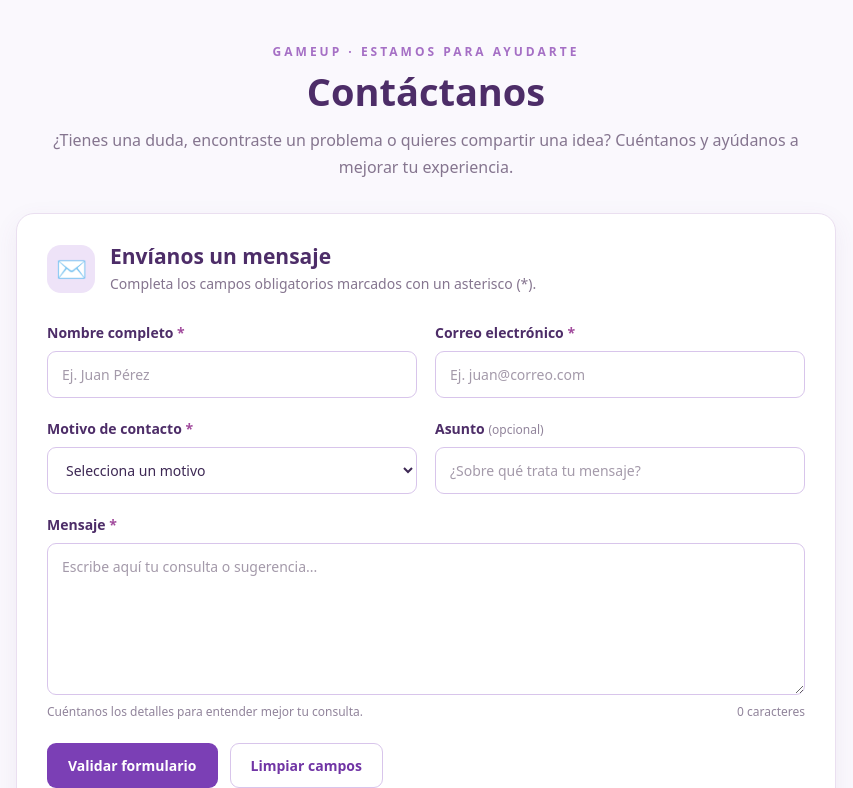
Componente Contacto › limpia los campos y la confirmación al presionar Limpiar campos
Step 1. Type "Ana Pérez" into the field labelled "Nombre completo *" → (232, 375), box [47,351,417,398]
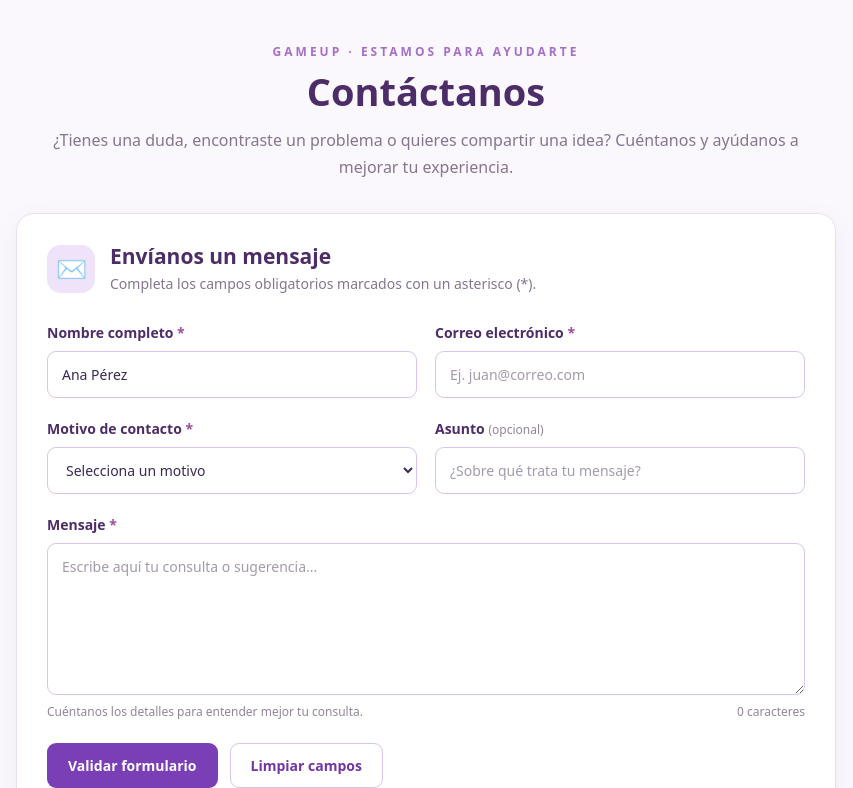
Step 2. Type "ana@example.com" into the field labelled "Correo electrónico *" → (620, 375), box [435,351,805,398]
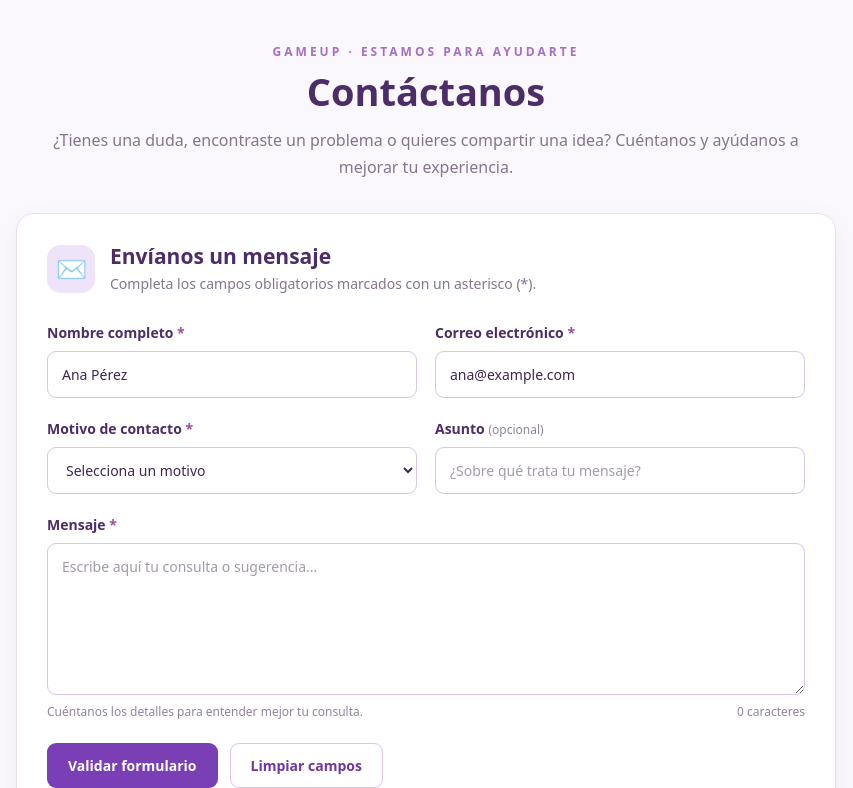
Step 3. Select "Consulta general" in the dropdown labelled "Motivo de contacto *" → (232, 471), box [47,447,417,494]
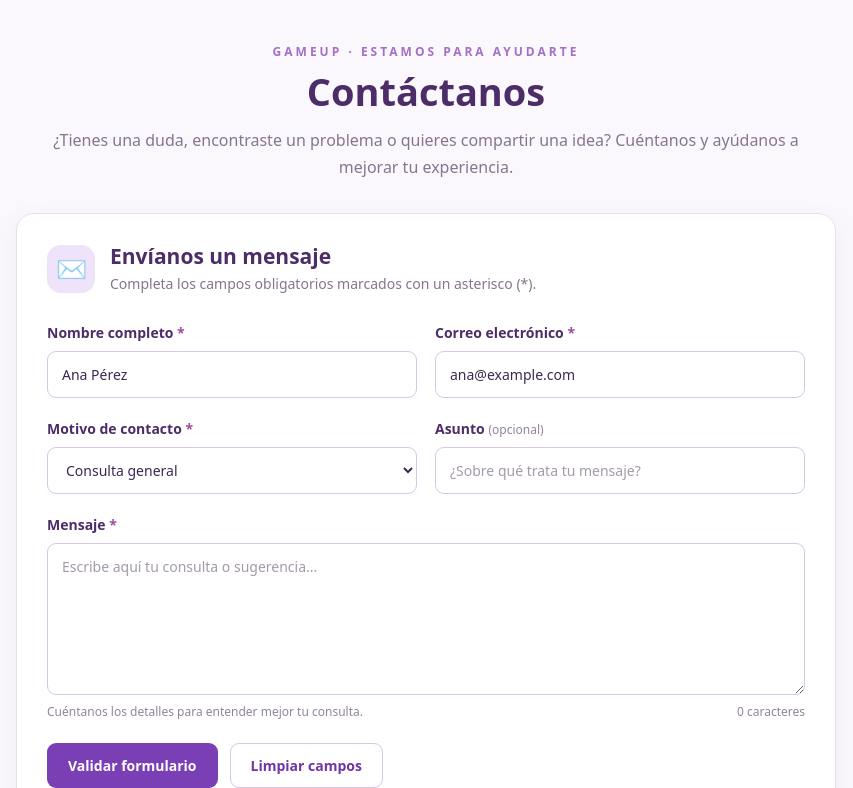
Step 4. Type "Necesito ayuda con mi biblioteca de videojuegos." into the text box labelled "Mensaje *" → (426, 619), box [47,543,805,695]
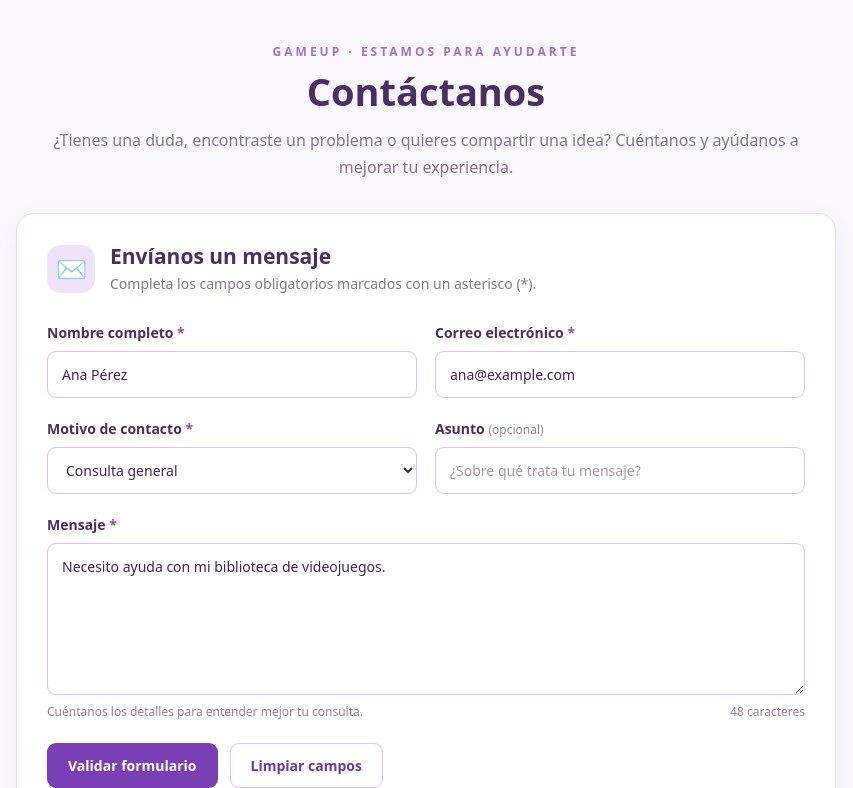
Step 5. Click the button "Validar formulario" → (132, 766), box [47,743,218,787]
(page scrolled)
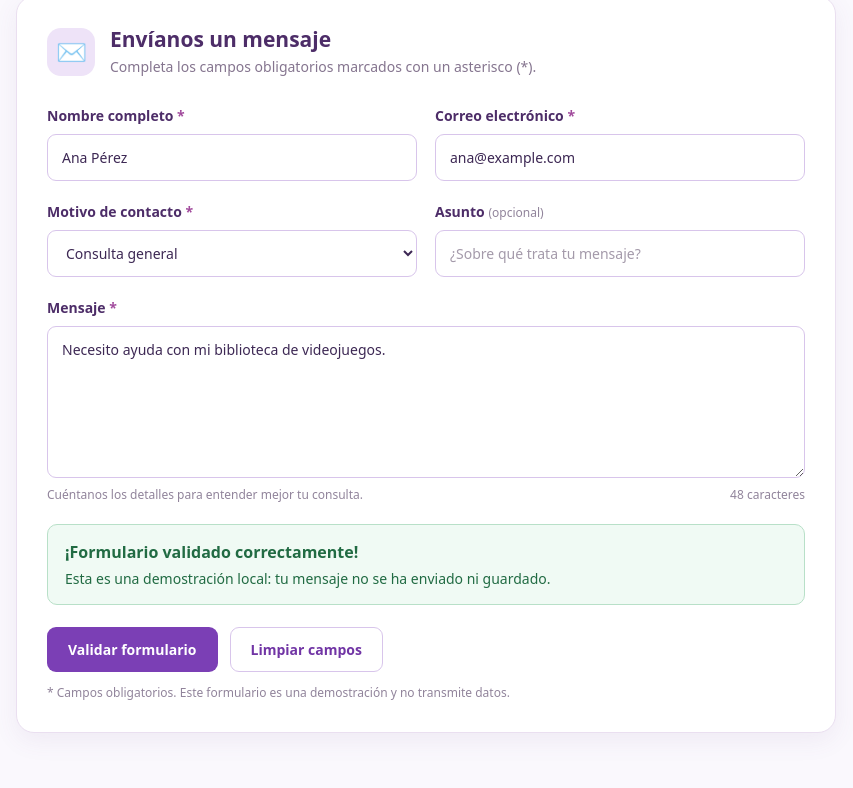
Step 6. Click the button "Limpiar campos" → (306, 650), box [230,627,383,672]
(page scrolled)
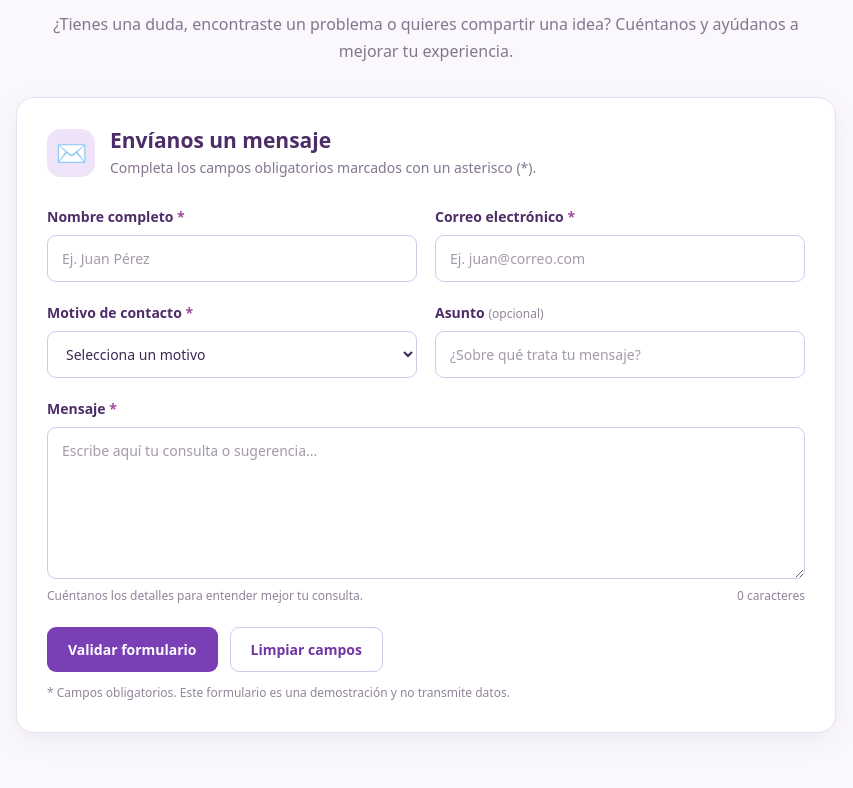
expect the field labelled "Nombre completo *" is empty: met, box [47,235,417,282]
expect the field labelled "Correo electrónico *" is empty: met, box [435,235,805,282]
expect the message is gone: met
